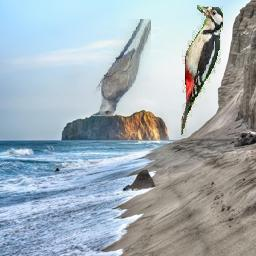Cuckoo: (93, 20, 152, 117)
Woodpecker: (181, 6, 223, 137)
